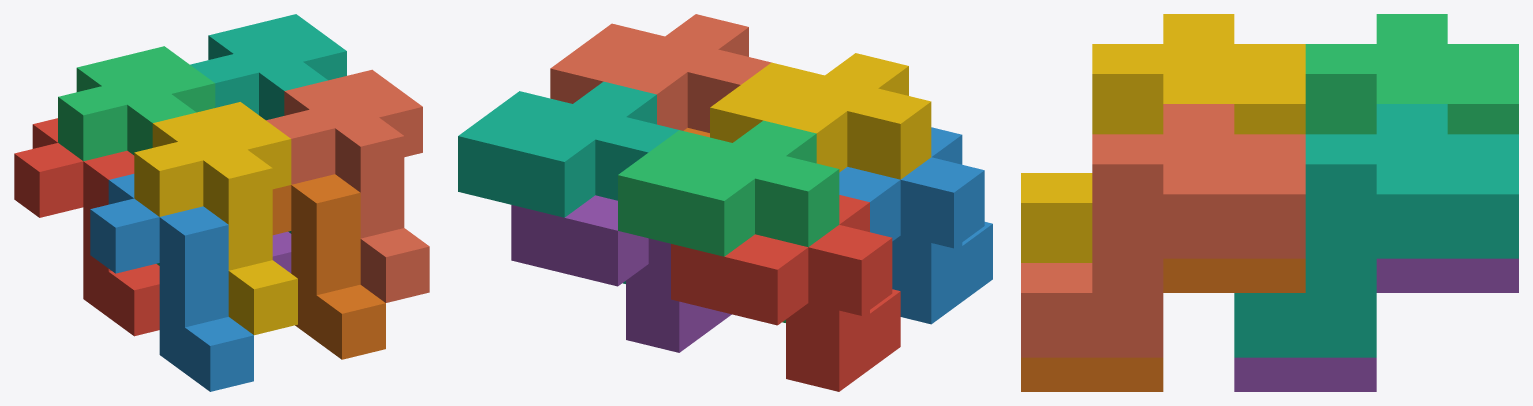
Rendered from tiling.obj.
3 renders of one model, left to right at view 1: azimuth 30°, elevation 25°; view 2: azimuth 150°, elevation 25°; view 3: azimuth 270°, elevation 25°, orthographic. The views are drawn at different scales.
Visible parts, largest first — view 1: copy_1_domain_4, copy_1_domain_8, copy_1_domain_2, copy_1_domain_6, copy_1_domain_3, copy_1_domain_1, copy_1_domain_7, copy_1_domain_5; view 2: copy_1_domain_1, copy_1_domain_3, copy_1_domain_7, copy_1_domain_4, copy_1_domain_2, copy_1_domain_8, copy_1_domain_5; view 3: copy_1_domain_8, copy_1_domain_7, copy_1_domain_4, copy_1_domain_3, copy_1_domain_5, copy_1_domain_6.
Boxes of the visible parts, x1=… form: copy_1_domain_4: x1=134, y1=102, x2=297, y2=335; copy_1_domain_8: x1=266, y1=69, x2=429, y2=302; copy_1_domain_2: x1=90, y1=174, x2=253, y2=391; copy_1_domain_6: x1=272, y1=174, x2=385, y2=359; copy_1_domain_3: x1=58, y1=46, x2=215, y2=265; copy_1_domain_1: x1=14, y1=118, x2=159, y2=336; copy_1_domain_7: x1=190, y1=14, x2=346, y2=233; copy_1_domain_5: x1=272, y1=231, x2=291, y2=273; copy_1_domain_1: x1=671, y1=195, x2=900, y2=391; copy_1_domain_3: x1=618, y1=120, x2=839, y2=322; copy_1_domain_7: x1=458, y1=81, x2=678, y2=283; copy_1_domain_4: x1=710, y1=53, x2=931, y2=179; copy_1_domain_2: x1=839, y1=127, x2=992, y2=324; copy_1_domain_8: x1=550, y1=14, x2=771, y2=132; copy_1_domain_5: x1=511, y1=195, x2=731, y2=352; copy_1_domain_8: x1=1021, y1=104, x2=1305, y2=357; copy_1_domain_7: x1=1234, y1=104, x2=1518, y2=357; copy_1_domain_4: x1=1021, y1=14, x2=1305, y2=262; copy_1_domain_3: x1=1305, y1=14, x2=1518, y2=134; copy_1_domain_5: x1=1234, y1=258, x2=1518, y2=391; copy_1_domain_6: x1=1021, y1=258, x2=1305, y2=391.
Bounding box in the file's own units: 7 × 4 × 7.
